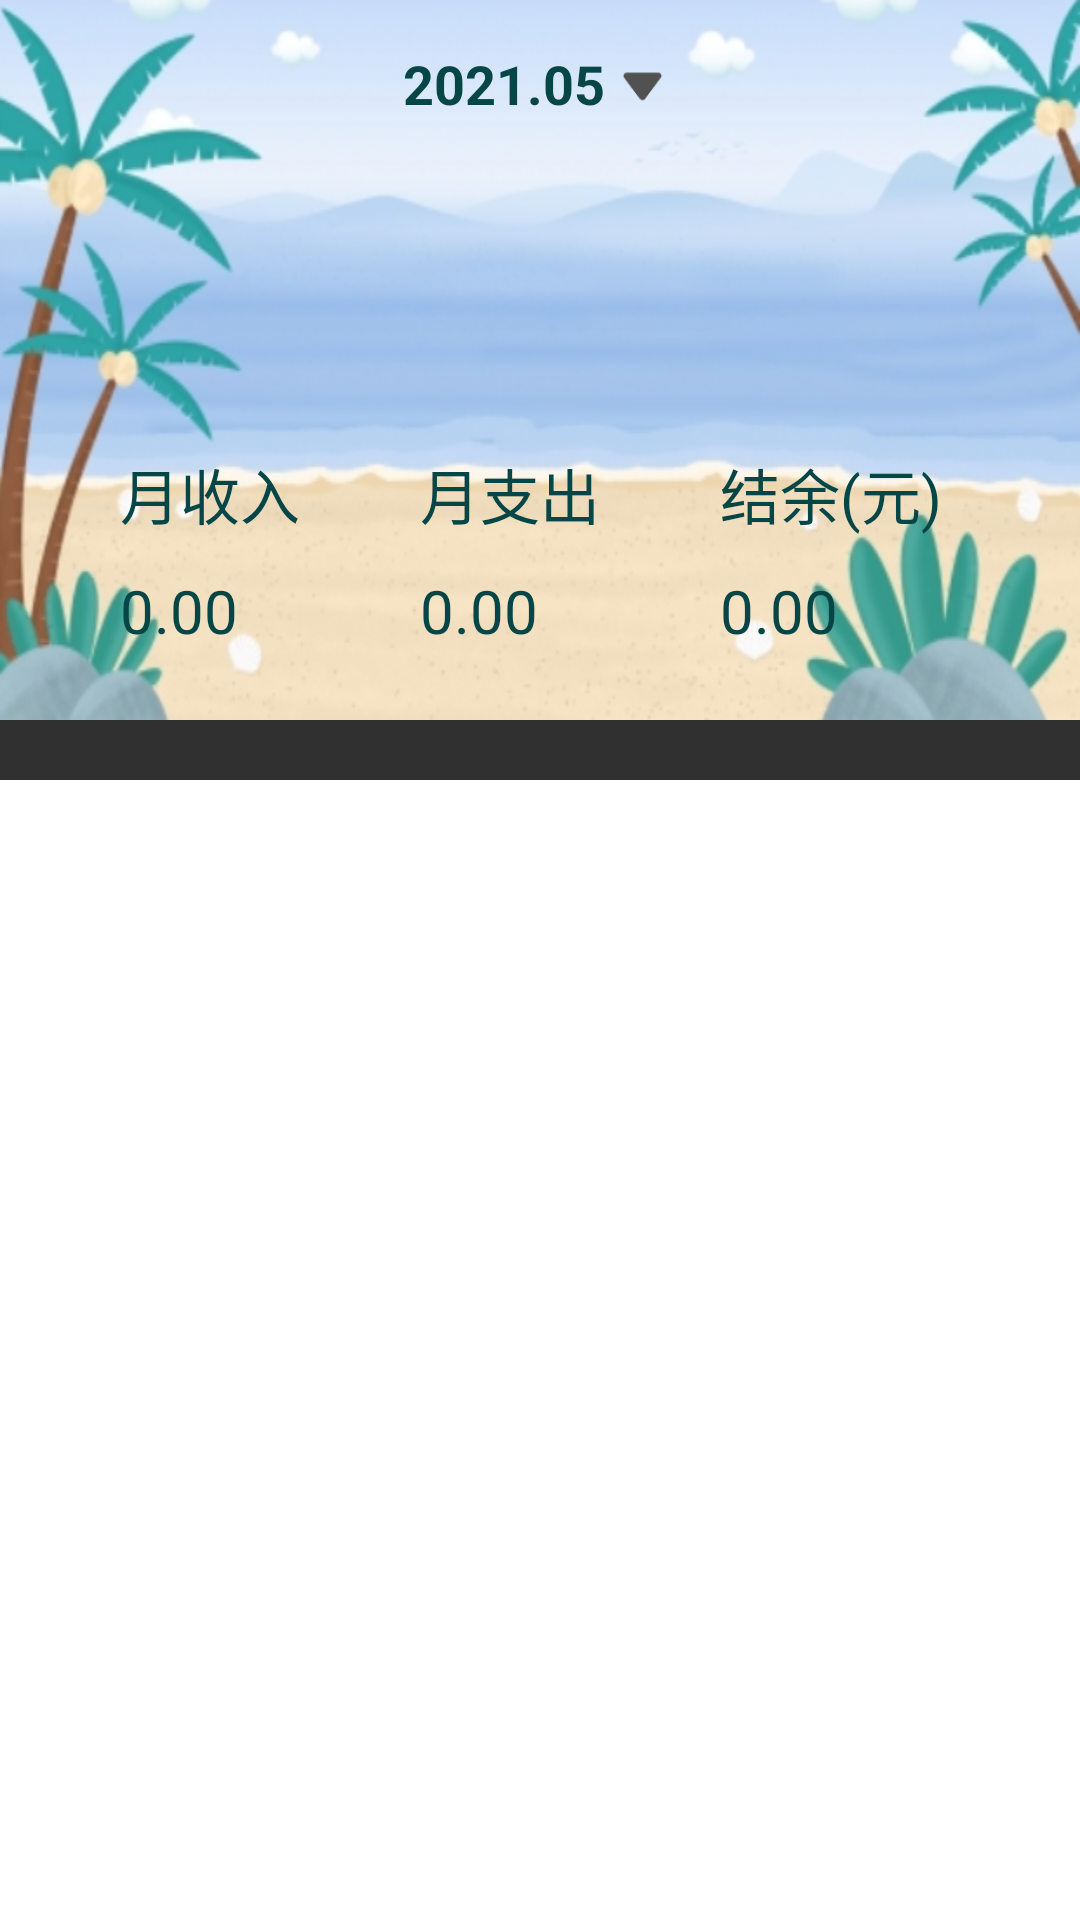

Icons on this 1080px x 1920px Android screen, each with the point to tap as [x,y]:
date bottom: [642,86]
